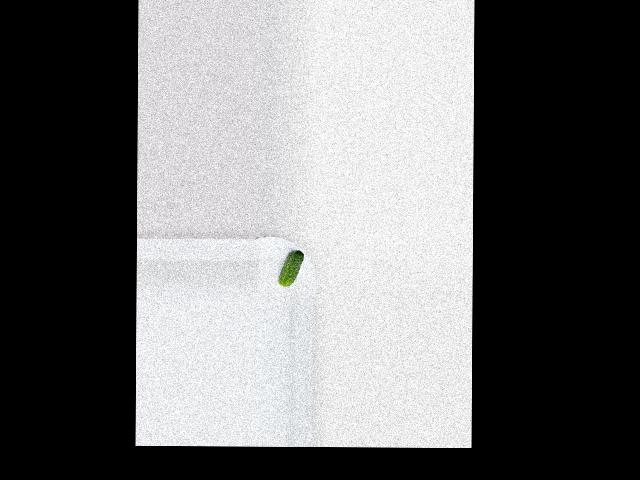cucumber: (278, 250, 303, 286)
